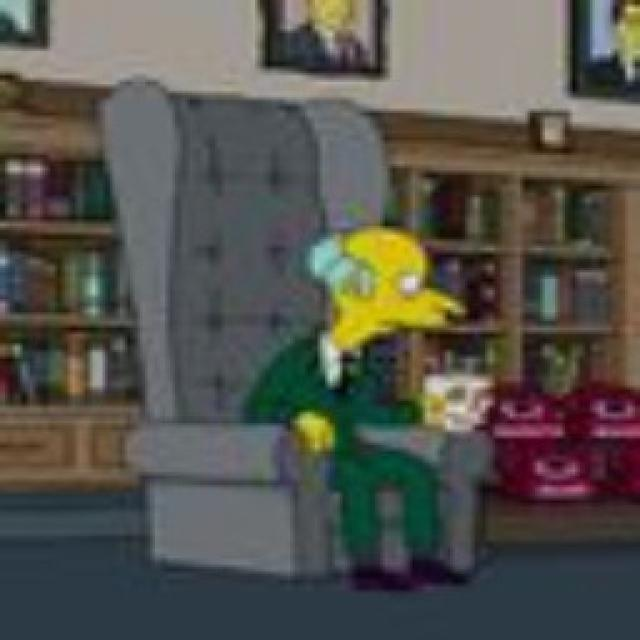Charles Montgomery Burns: (302, 224, 472, 368)
